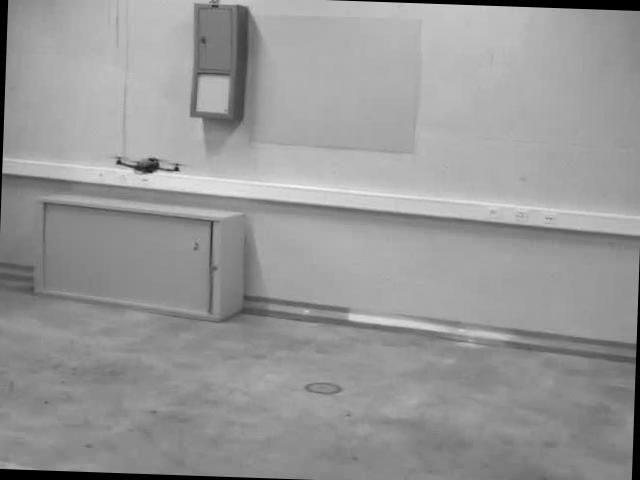drone: (108, 152, 187, 180)
